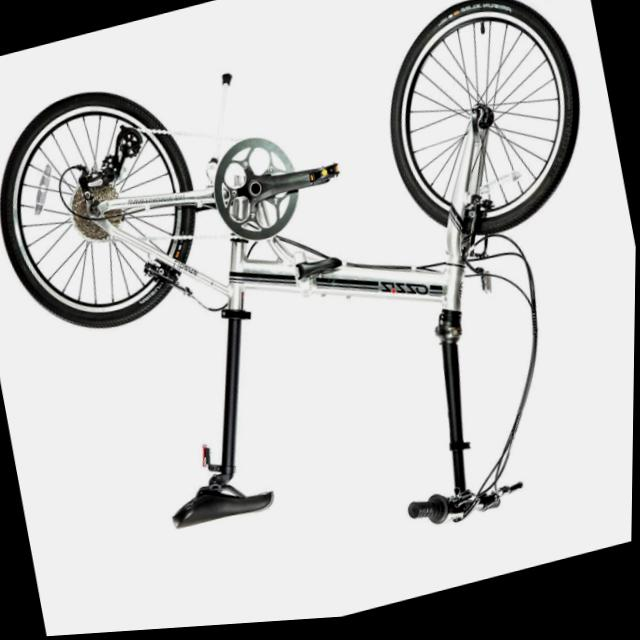folding-bike: (0, 0, 640, 631)
